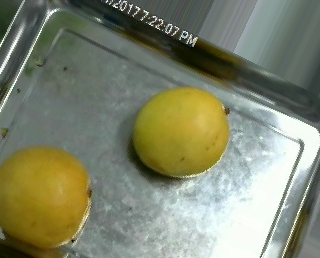Mango: (129, 81, 238, 179), (4, 139, 92, 249)
